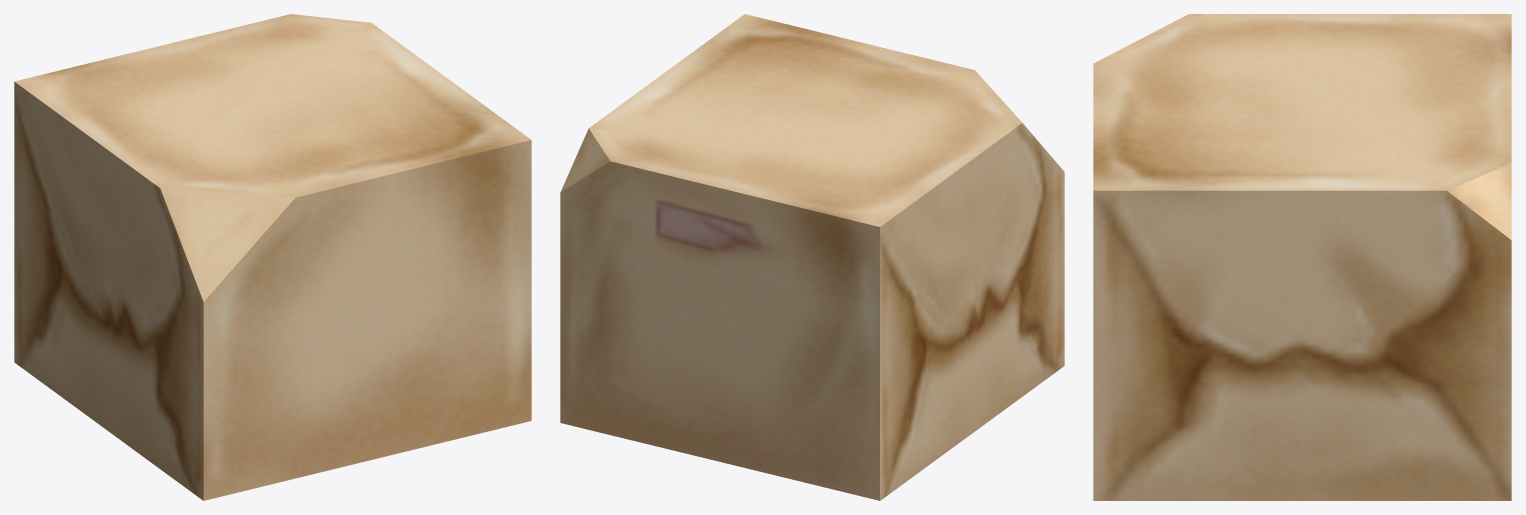
Rendered from a_SWGubox03B.glb.
3 renders of one model, left to right at view 1: azimuth 30°, elevation 25°; view 2: azimuth 150°, elevation 25°; view 3: azimuth 270°, elevation 25°, orthographic. The views are drawn at different scales.
Parts seen in each view (by area): view 1: a_SWGubox03B; view 2: a_SWGubox03B; view 3: a_SWGubox03B.
Part boxes in pixels (box(x1,y1,x2,y2)): a_SWGubox03B: box(14, 14, 531, 500); a_SWGubox03B: box(560, 14, 1064, 500); a_SWGubox03B: box(1093, 14, 1511, 500).
Bounding box in the file's own units: 0.55 × 0.45 × 0.5497.
Materials: 1 (1 with a texture image).
